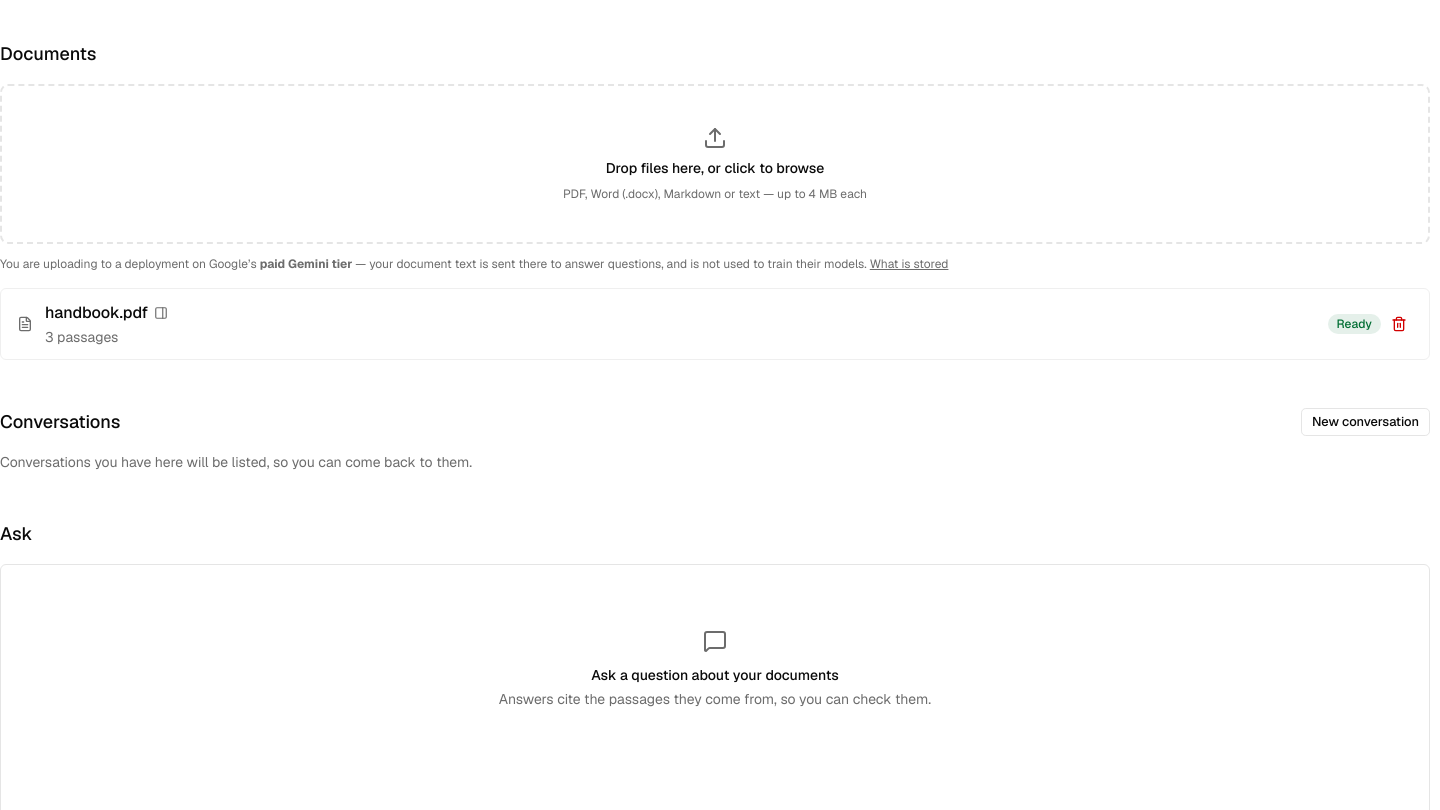
Test: a delete or retry that fails › says nothing when the document was already deleted elsewhere
Click the button named "Delete handbook.pdf" at (1399, 324), box [1385,310,1413,338]
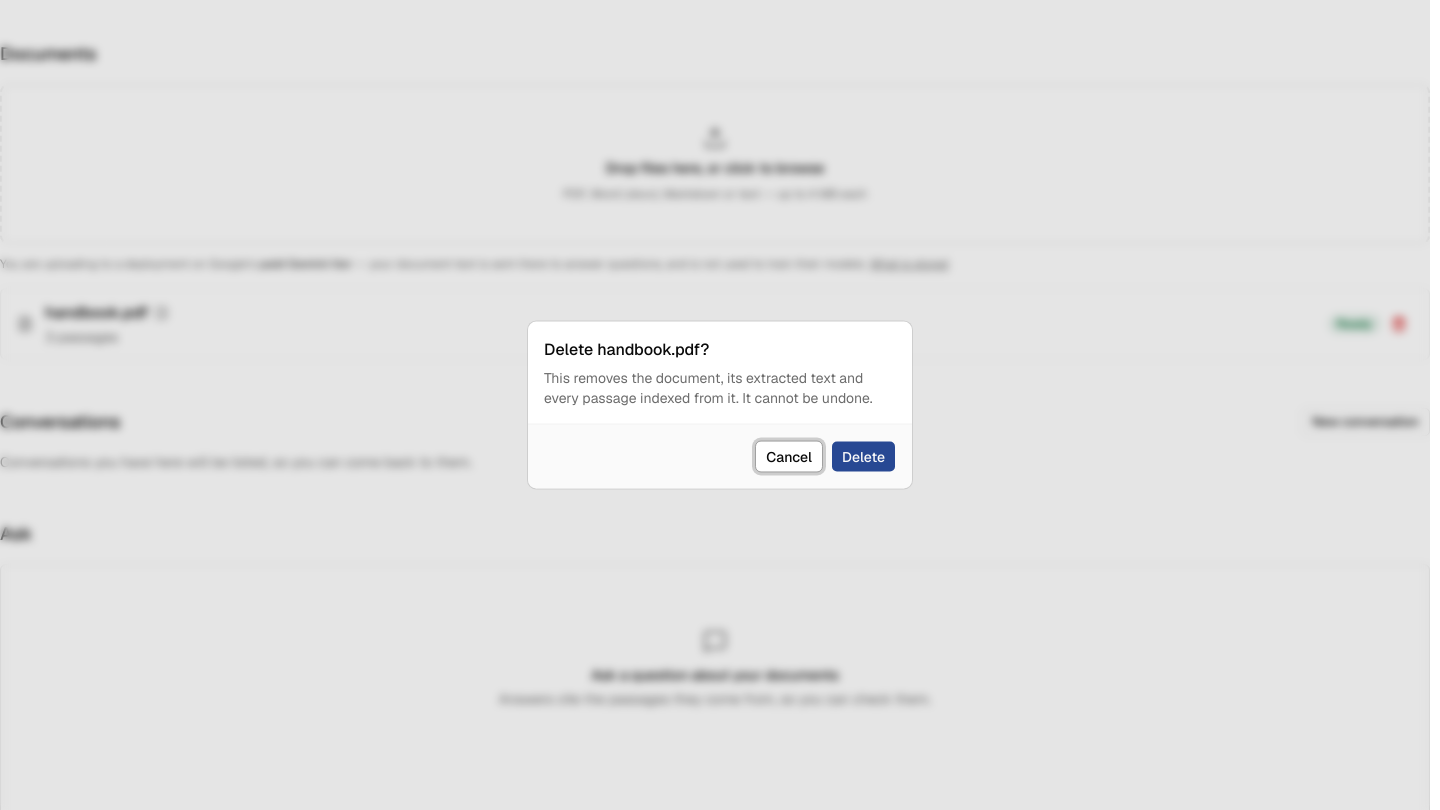
Click the button "Delete" at (863, 456), box [831,440,896,472]
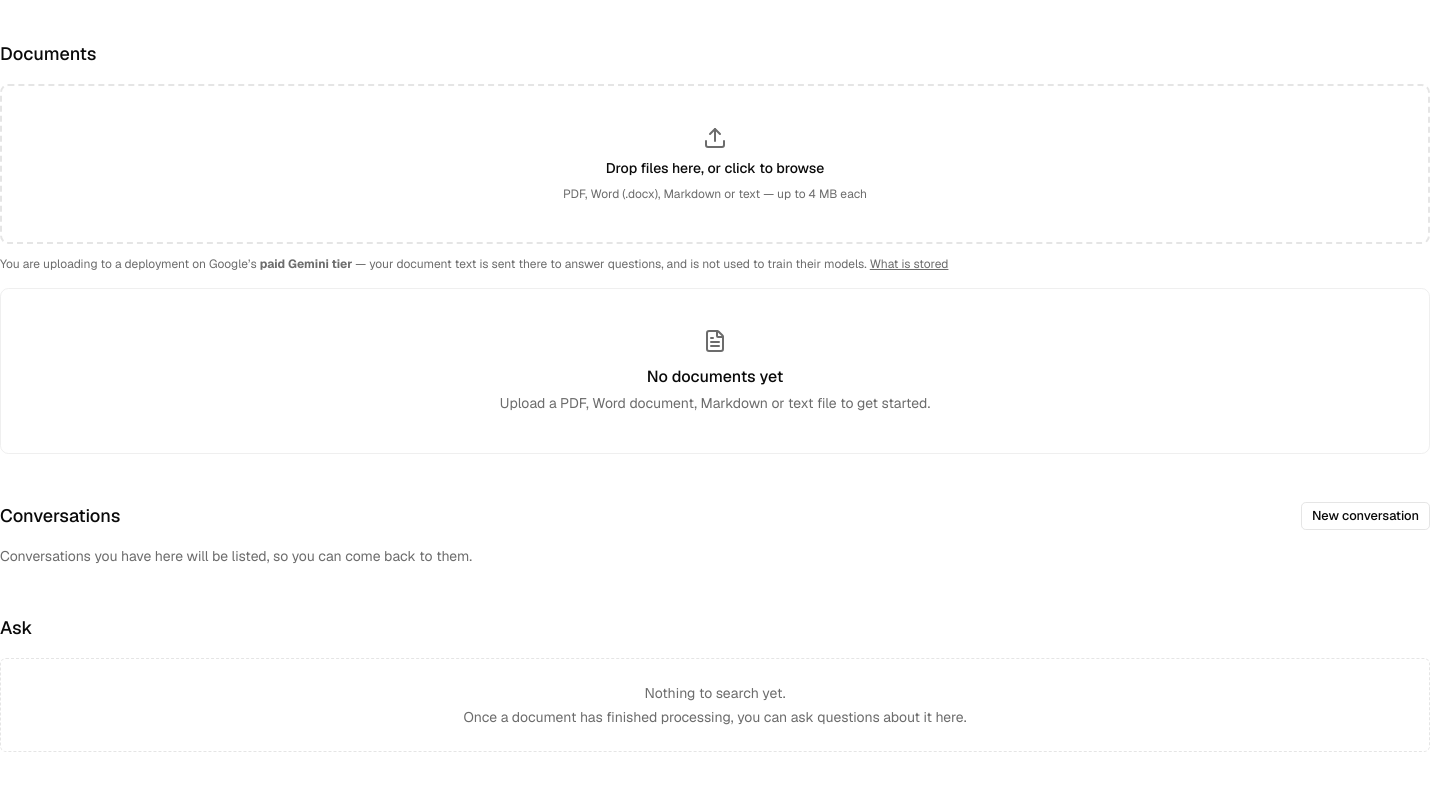
Now the button "handbook.pdf" is gone
